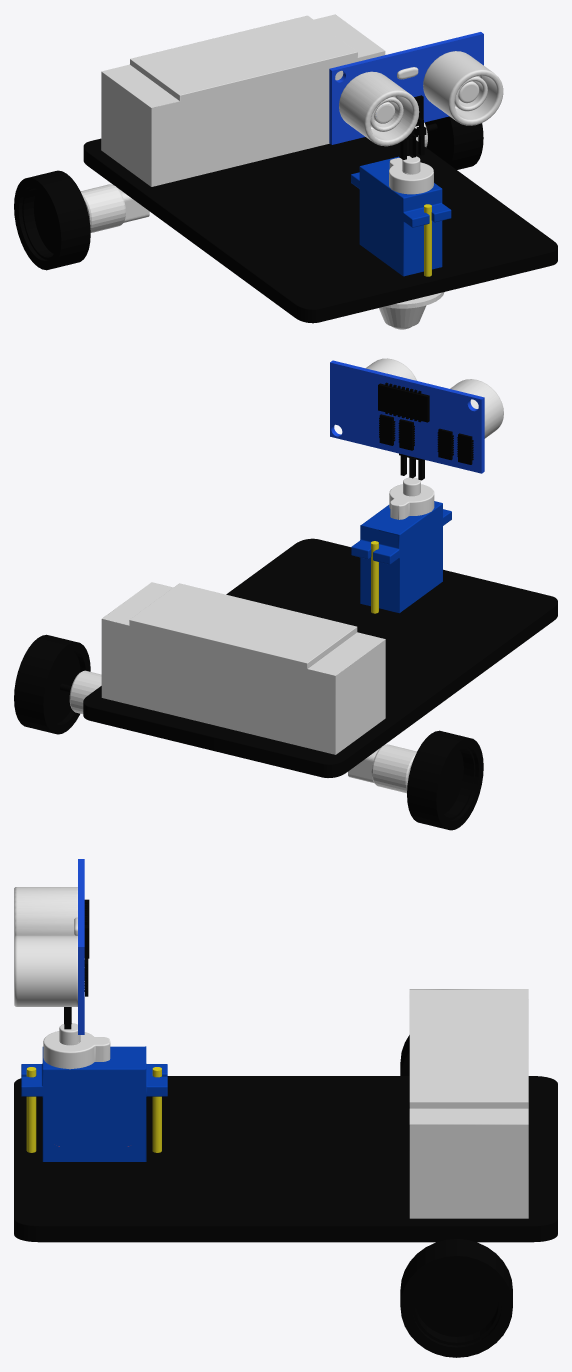
Rendered from two_wheel.gltf.
3 renders of one model, top to bottom at view 1: azimuth 30°, elevation 25°; view 2: azimuth 150°, elevation 25°; view 3: azimuth 270°, elevation 25°, orthographic. The views are drawn at different scales.
Visible parts, largest first — view 1: base, Cube, left, servo, right_wheel, left_wheel, right_motor, front_wheel, Cylinder.000; view 2: Cube, base, left, servo, right_wheel, left_wheel, right_motor, left_motor; view 3: base, Cube, servo, left_wheel, left, Cylinder.000, Cylinder.001.
Part boxes in pixels (left/top/right/bottom): base: left=83, top=137, right=557, bottom=323; Cube: left=101, top=14, right=385, bottom=186; left: left=329, top=32, right=503, bottom=159; servo: left=351, top=156, right=451, bottom=276; right_wheel: left=14, top=170, right=90, bottom=270; left_wheel: left=424, top=116, right=483, bottom=169; right_motor: left=80, top=184, right=149, bottom=232; front_wheel: left=379, top=292, right=444, bottom=329; Cylinder.000: left=424, top=204, right=431, bottom=276; Cube: left=101, top=582, right=385, bottom=754; base: left=83, top=538, right=557, bottom=777; left: left=330, top=358, right=503, bottom=480; servo: left=351, top=477, right=451, bottom=613; right_wheel: left=407, top=730, right=483, bottom=830; left_wheel: left=14, top=634, right=90, bottom=734; right_motor: left=348, top=744, right=416, bottom=793; left_motor: left=69, top=670, right=101, bottom=714; base: left=14, top=1076, right=557, bottom=1242; Cube: left=409, top=989, right=528, bottom=1218; servo: left=21, top=1023, right=167, bottom=1161; left_wheel: left=400, top=1239, right=512, bottom=1357; left: left=14, top=859, right=89, bottom=1034; Cylinder.000: left=26, top=1067, right=36, bottom=1152; Cylinder.001: left=152, top=1067, right=161, bottom=1152.
Bounding box in the file's own units: 23.61 × 14.98 × 22.19.
